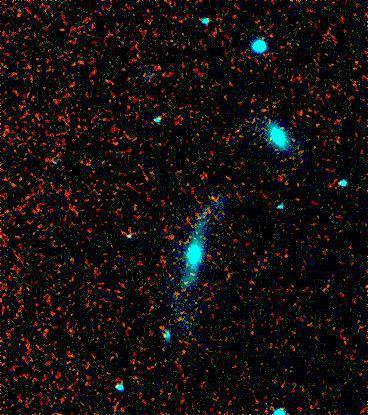star: (197, 186, 227, 216)
